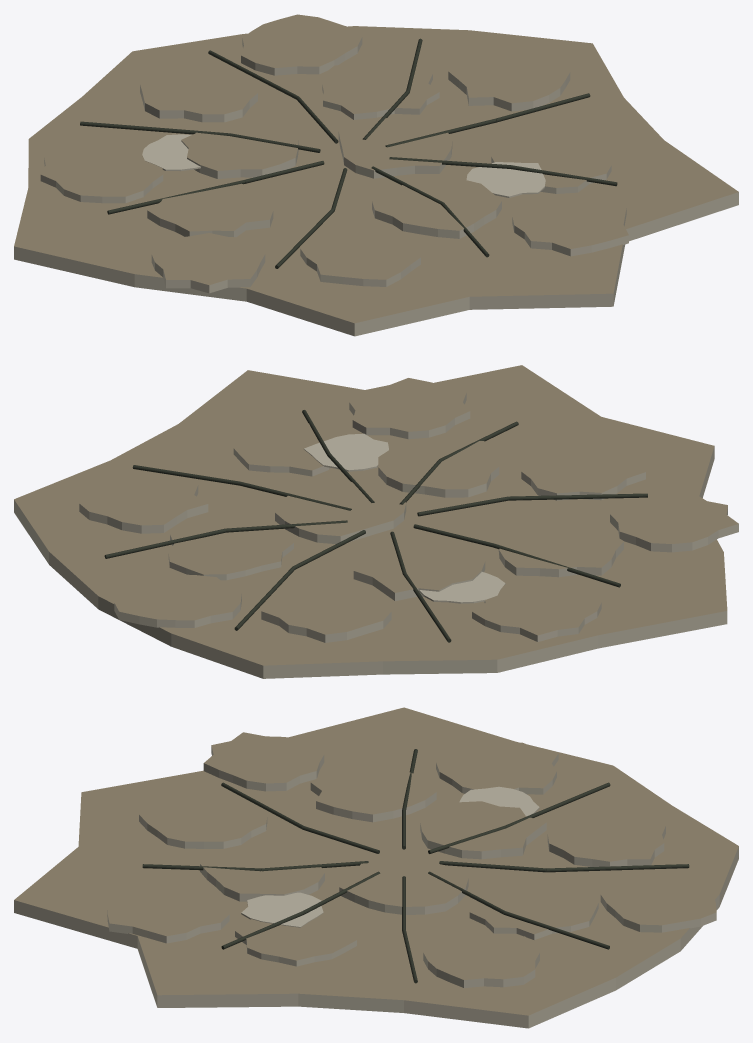
Rendered from Lakebed_Stranded_Frame_Cleared.glb.
3 renders of one model, top to bottom at view 1: azimuth 30°, elevation 25°; view 2: azimuth 150°, elevation 25°; view 3: azimuth 270°, elevation 25°, orthographic. The views are drawn at different scales.
Visible parts, largest first — view 1: Structure; view 2: Structure; view 3: Structure.
Boxes of the visible parts, x1=… form: Structure: x1=14, y1=14, x2=738, y2=336; Structure: x1=14, y1=365, x2=738, y2=678; Structure: x1=14, y1=707, x2=738, y2=1028.
Size of the model in its own units: 6.14 by 0.212 by 6.11.
